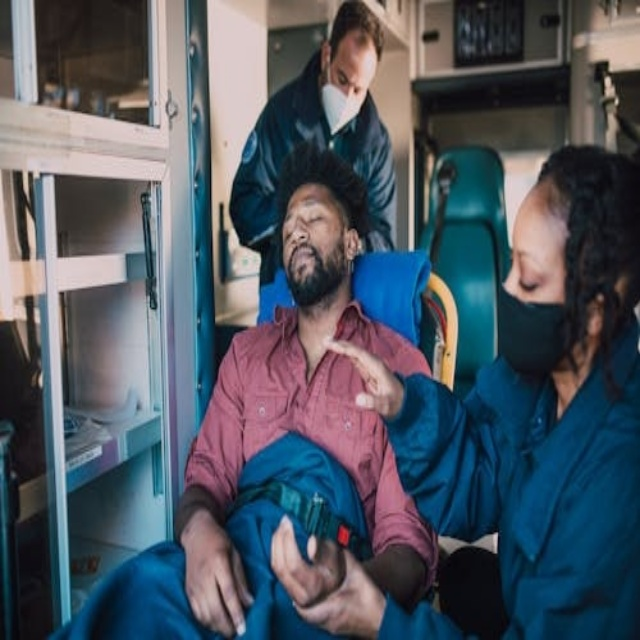Mascara: (496, 279, 572, 375), (320, 69, 363, 137)
Sin_gafas: (504, 231, 562, 296), (278, 192, 324, 244), (333, 67, 371, 100)
Sin_guantes: (281, 521, 384, 639), (182, 521, 255, 640), (323, 337, 401, 422)
Sin_mascara: (287, 246, 320, 281)
